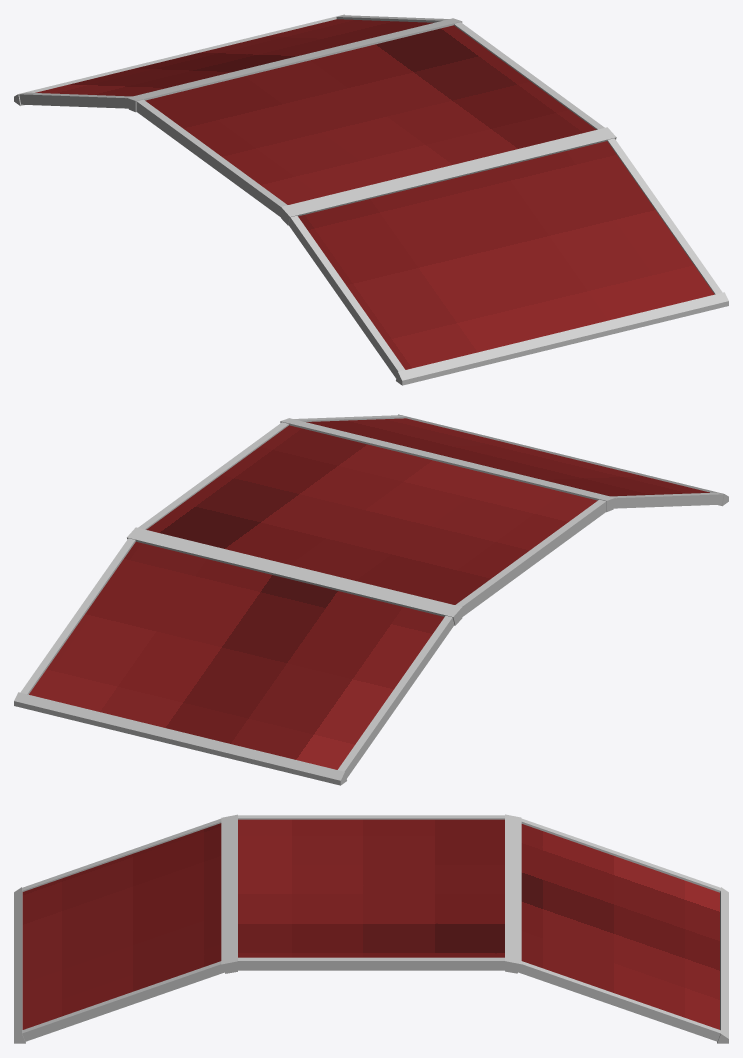
Rendered from raincover05a.fbx.
The picture shows the model from 3 angles, top to bottom: view 1: azimuth 30°, elevation 25°; view 2: azimuth 150°, elevation 25°; view 3: azimuth 270°, elevation 25°; orthographic projection. The views are drawn at different scales.
Parts seen in each view (by area): view 1: raincover05a; view 2: raincover05a; view 3: raincover05a.
Part boxes in pixels (box(x1,y1,x2,y2)): raincover05a: box(14, 14, 728, 385); raincover05a: box(14, 414, 728, 785); raincover05a: box(14, 814, 728, 1043).
Size of the model in its own units: 5.61 by 1.47 by 11.53.
